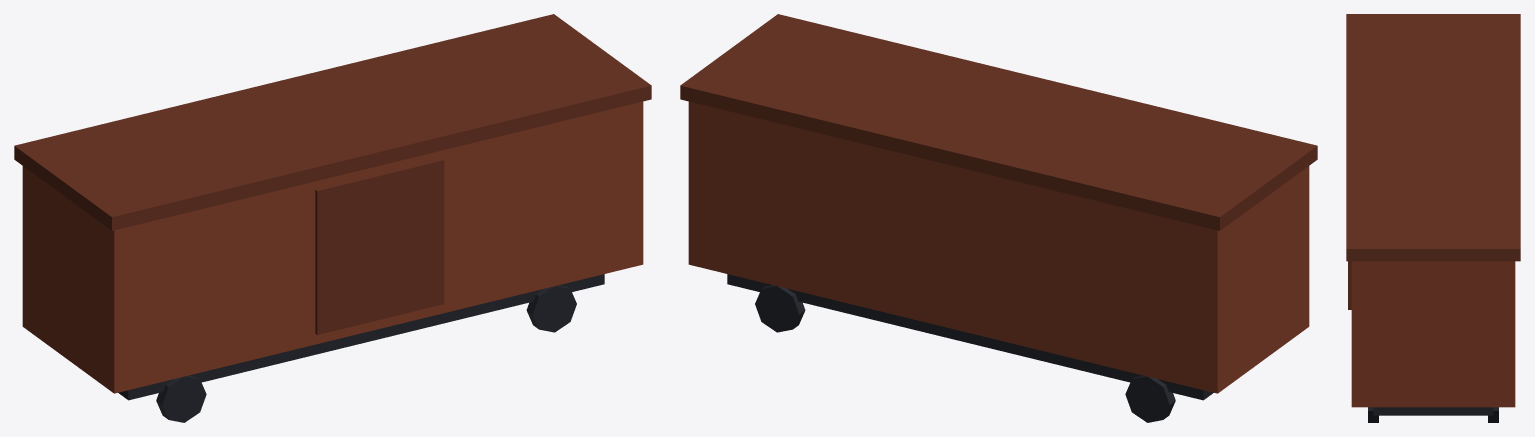
File: boxcar.glb
The picture shows the model from 3 angles, left to right: view 1: azimuth 30°, elevation 25°; view 2: azimuth 150°, elevation 25°; view 3: azimuth 270°, elevation 25°; orthographic projection. The views are drawn at different scales.
Visible parts, largest first — view 1: model; view 2: model; view 3: model.
Part boxes in pixels (x1,y1,x2,y2): model: [14, 14, 651, 422]; model: [680, 14, 1317, 422]; model: [1346, 14, 1520, 422].
Size of the model in its own units: 10.2 by 4.25 by 3.2.
